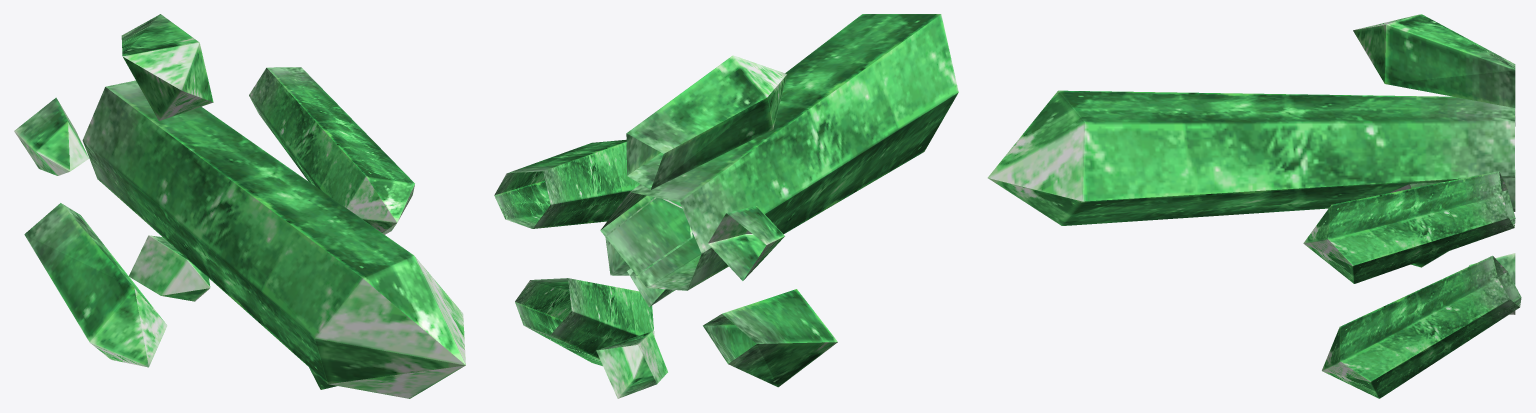
Rendered from world_shui2.obj.
The picture shows the model from 3 angles, left to right: view 1: azimuth 30°, elevation 25°; view 2: azimuth 150°, elevation 25°; view 3: azimuth 270°, elevation 25°; orthographic projection. The views are drawn at different scales.
Visible parts, largest first — view 1: World_shui2; view 2: World_shui2; view 3: World_shui2.
Part boxes in pixels (<box>): World_shui2: <box>14,14,465,398</box>; World_shui2: <box>494,14,958,398</box>; World_shui2: <box>987,14,1521,398</box>.
Bounding box in the file's own units: 39.23 × 45.49 × 69.45.
Materials: 1 (1 with a texture image).
